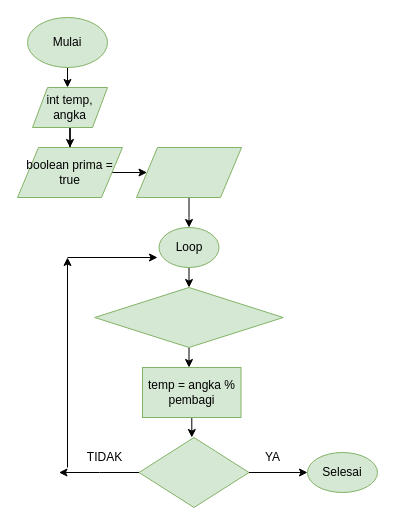
Image size: 395x525. Some labels were removed from this diagram. The box of each missing label's shape, as (x1, y1, x2, y2) in pixels:
if (angka > 0) && (angka != 1): (138, 436, 249, 508)
Input angka: (136, 146, 242, 198)
int pembagi=4; pembagi <= angka/2; pembagi ++: (94, 286, 283, 348)
